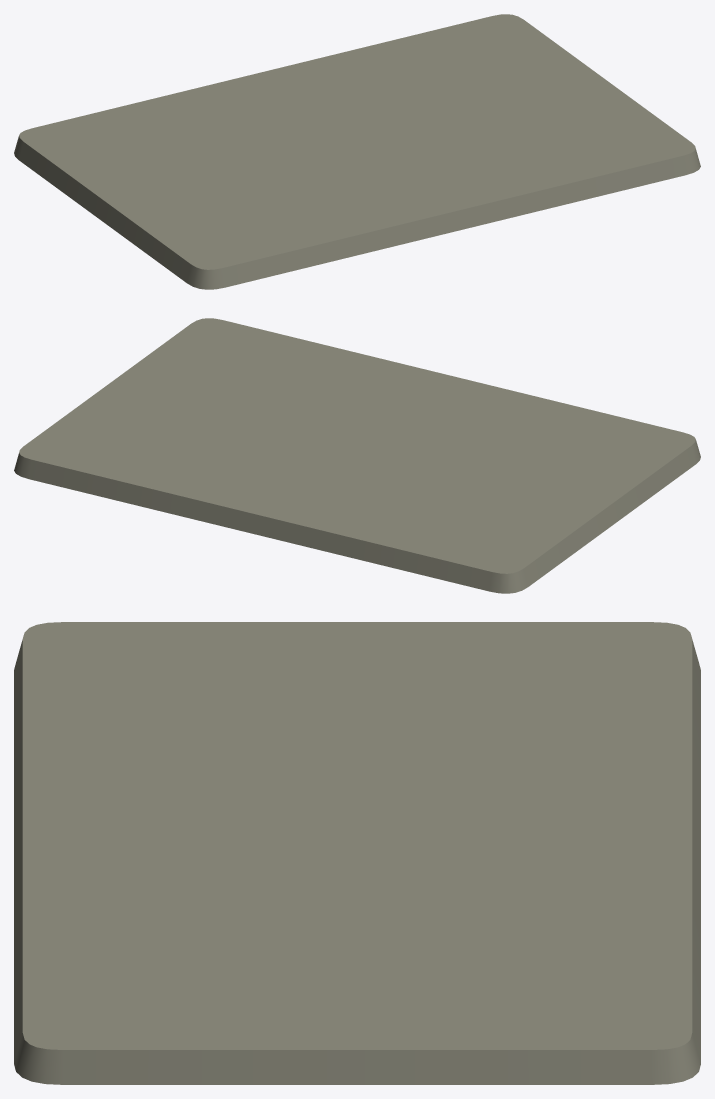
Rendered from ground_concrete.fbx.
3 views of the same model, one above another, from view 1: azimuth 30°, elevation 25°; view 2: azimuth 150°, elevation 25°; view 3: azimuth 270°, elevation 25° (orthographic). The views are drawn at different scales.
Parts seen in each view (by area): view 1: ground_concrete; view 2: ground_concrete; view 3: ground_concrete.
Part boxes in pixels (x1,y1,x2,y2): ground_concrete: (14, 14, 700, 289); ground_concrete: (14, 318, 700, 593); ground_concrete: (14, 622, 700, 1084).
Size of the model in its own units: 1500 by 50 by 1000.
